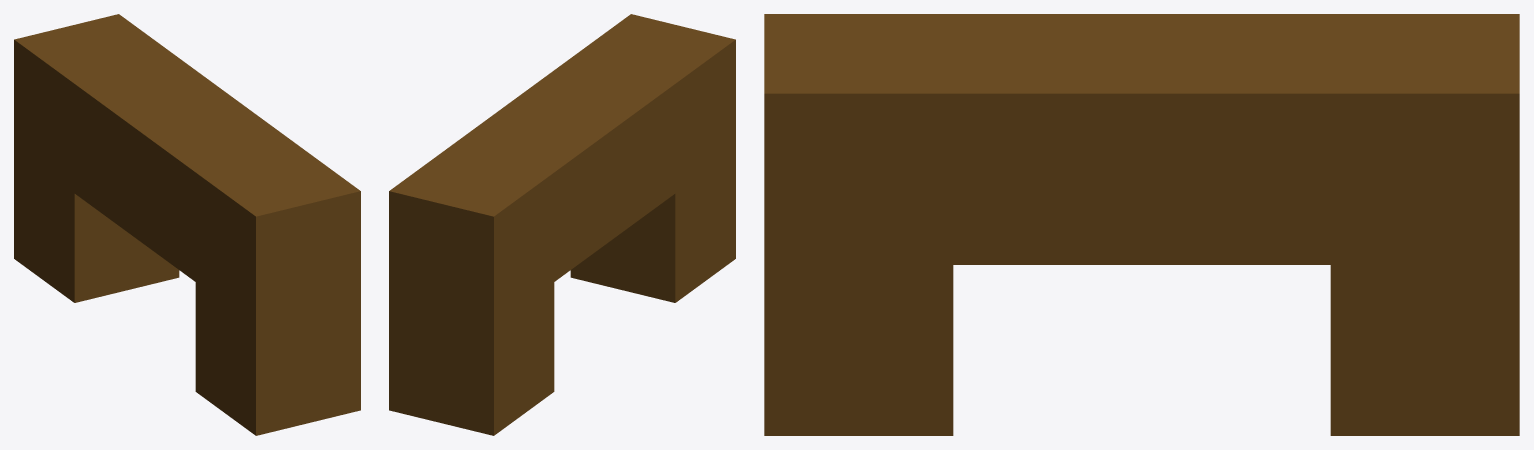
The model's file is small fence.glb.
The picture shows the model from 3 angles, left to right: view 1: azimuth 30°, elevation 25°; view 2: azimuth 150°, elevation 25°; view 3: azimuth 270°, elevation 25°; orthographic projection. The views are drawn at different scales.
Parts seen in each view (by area): view 1: pl0; view 2: pl0; view 3: pl0.
Part boxes in pixels (bbox=[...]): pl0: bbox=[14, 14, 360, 435]; pl0: bbox=[389, 14, 735, 435]; pl0: bbox=[764, 14, 1519, 435].
Bounding box in the file's own units: 0.1 × 0.2 × 0.4.
Materials: 1 (1 with a texture image).
